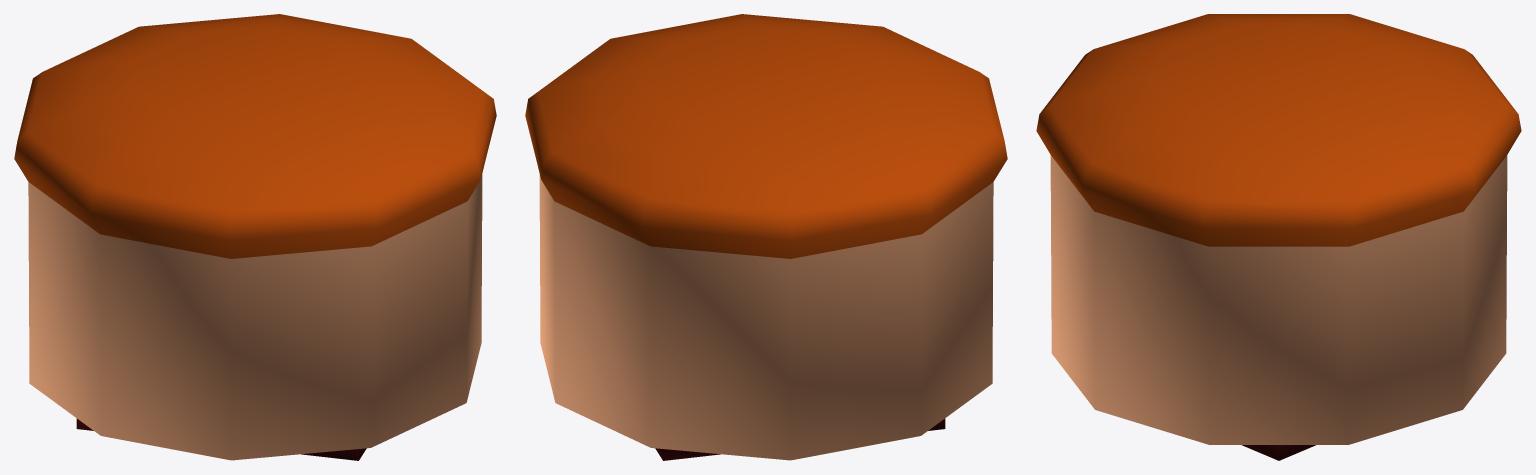
File: Prop_Pouffes_06.fbx
The picture shows the model from 3 angles, left to right: view 1: azimuth 30°, elevation 25°; view 2: azimuth 150°, elevation 25°; view 3: azimuth 270°, elevation 25°; orthographic projection.
Parts seen in each view (by area): view 1: Prop_Pouffes_06; view 2: Prop_Pouffes_06; view 3: Prop_Pouffes_06.
Part boxes in pixels (x1,y1,x2,y2): Prop_Pouffes_06: (14, 14, 496, 460); Prop_Pouffes_06: (525, 14, 1007, 460); Prop_Pouffes_06: (1036, 14, 1521, 460).
Bounding box in the file's own units: 57.65 × 41.3 × 60.61.
